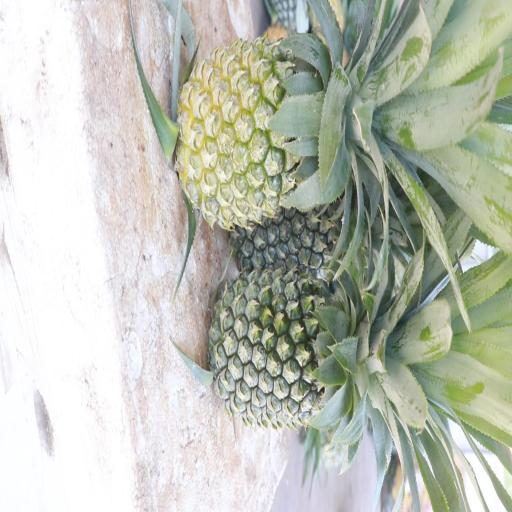Pineapple - v8 v1: (178, 39, 348, 226)
